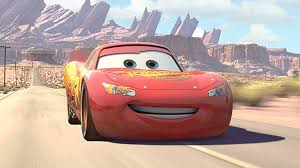mcqueen: (62, 41, 234, 142)
